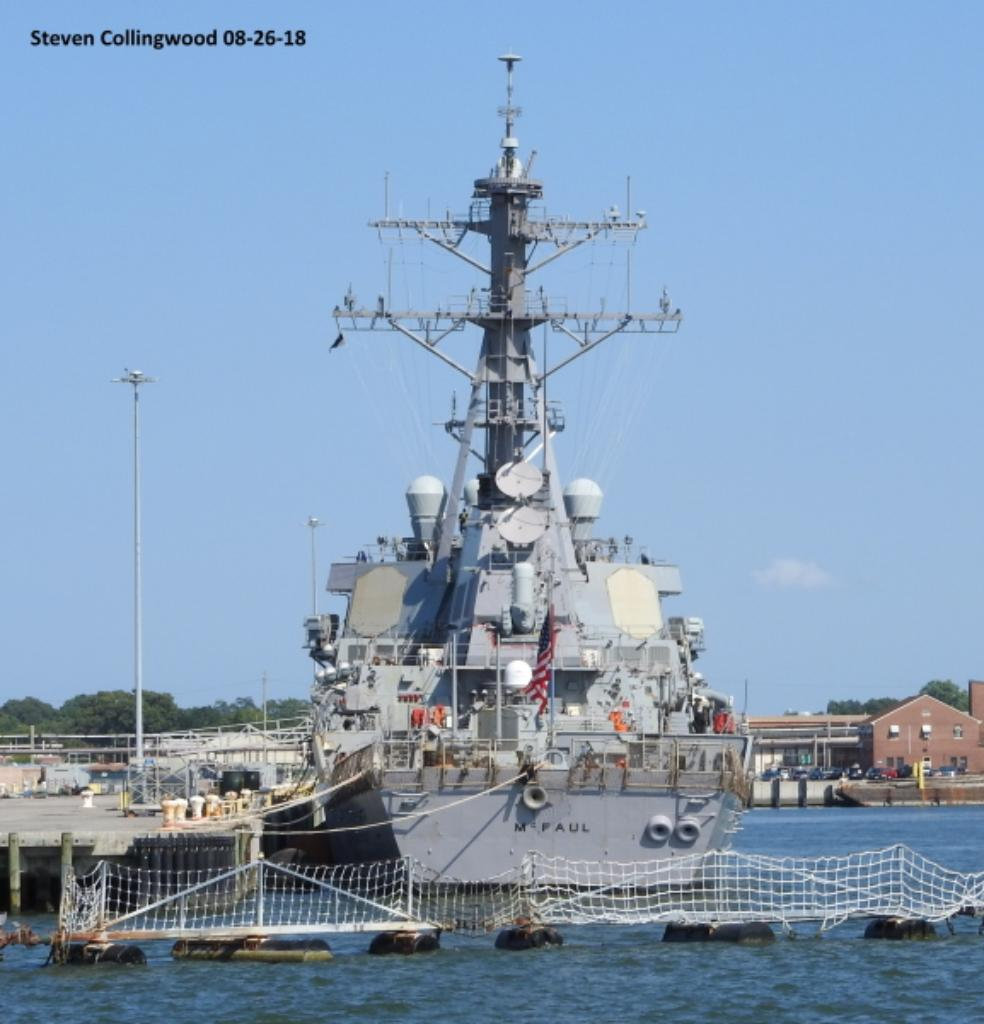Warship: (312, 49, 760, 897)
